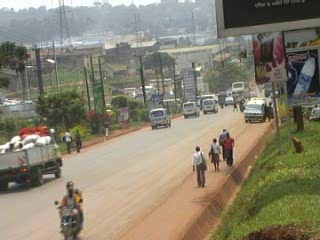Car: (223, 94, 237, 107)
Motorcycle: (48, 180, 89, 238), (237, 98, 246, 114)
